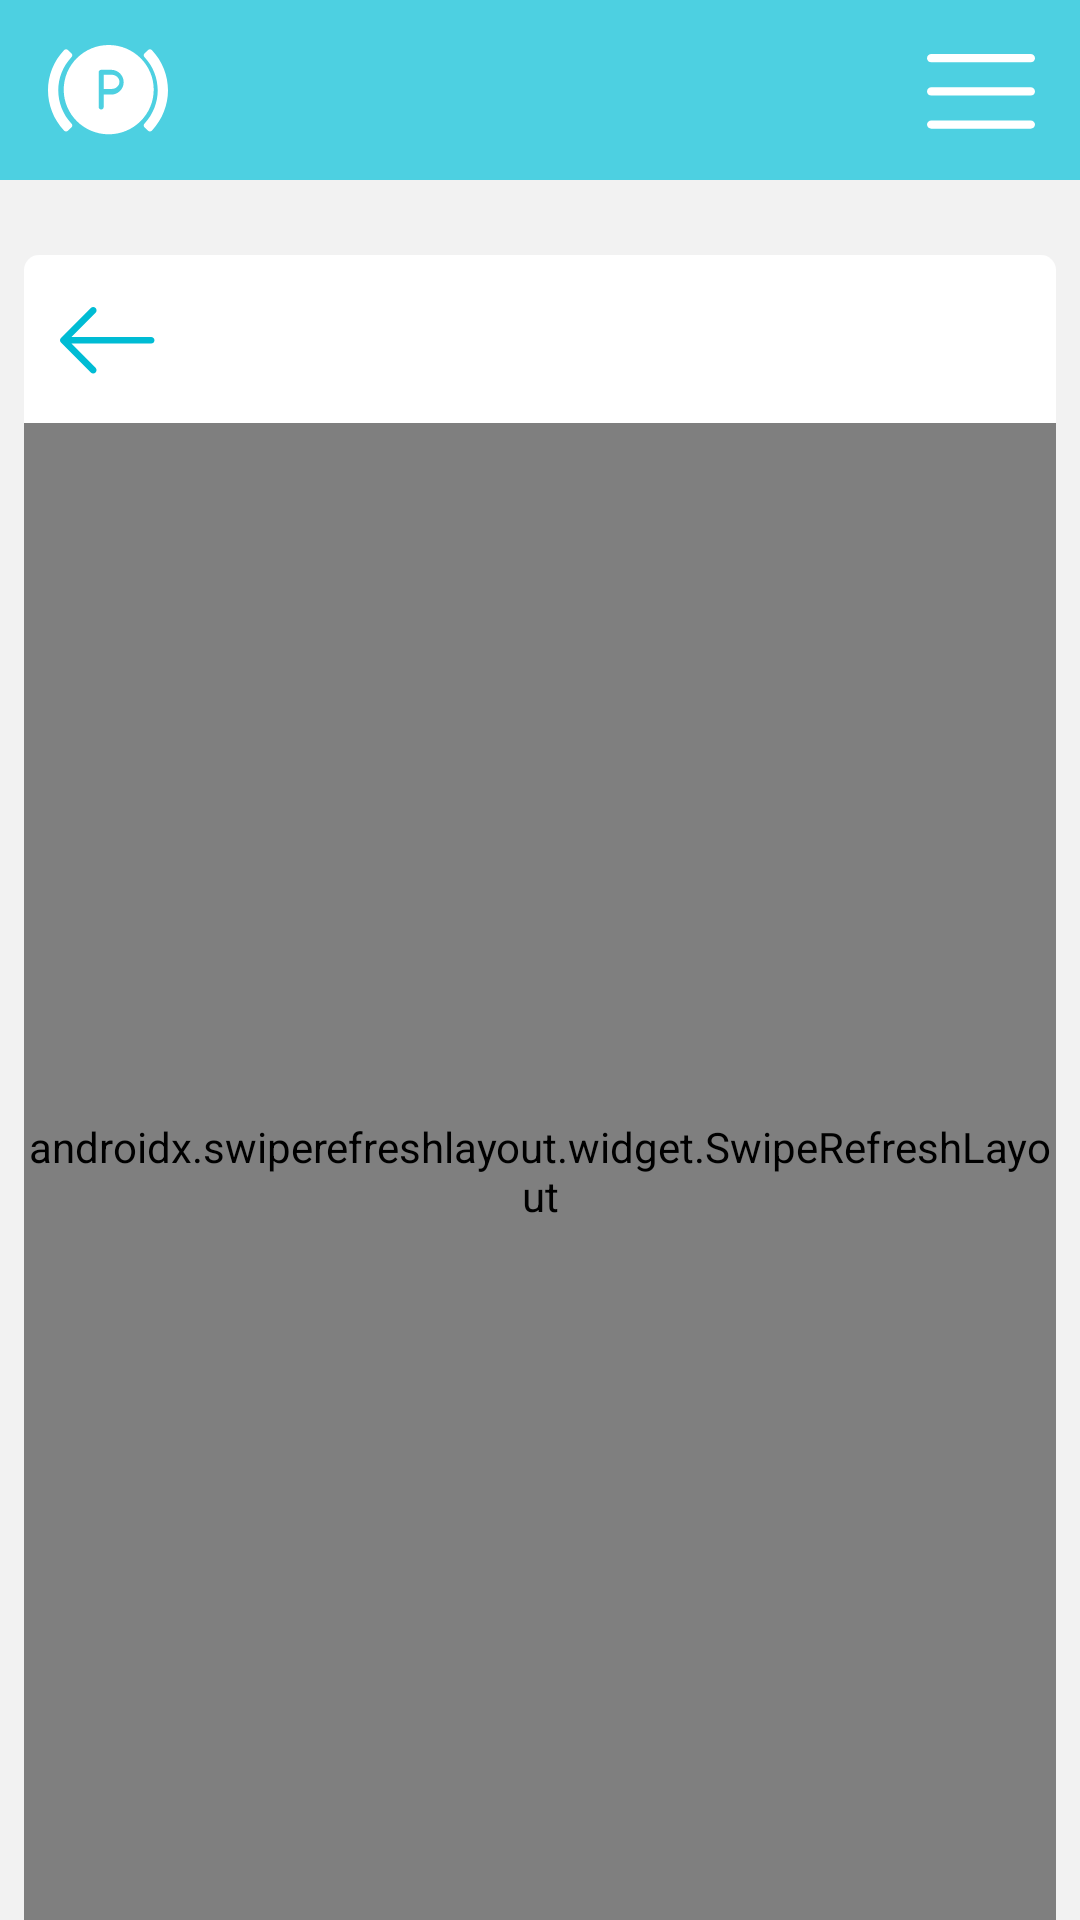

Named icons in this screenshot (1080px x 1920px) and their centers, [x,y]:
menu: [981,91]
parking: [108,90]
